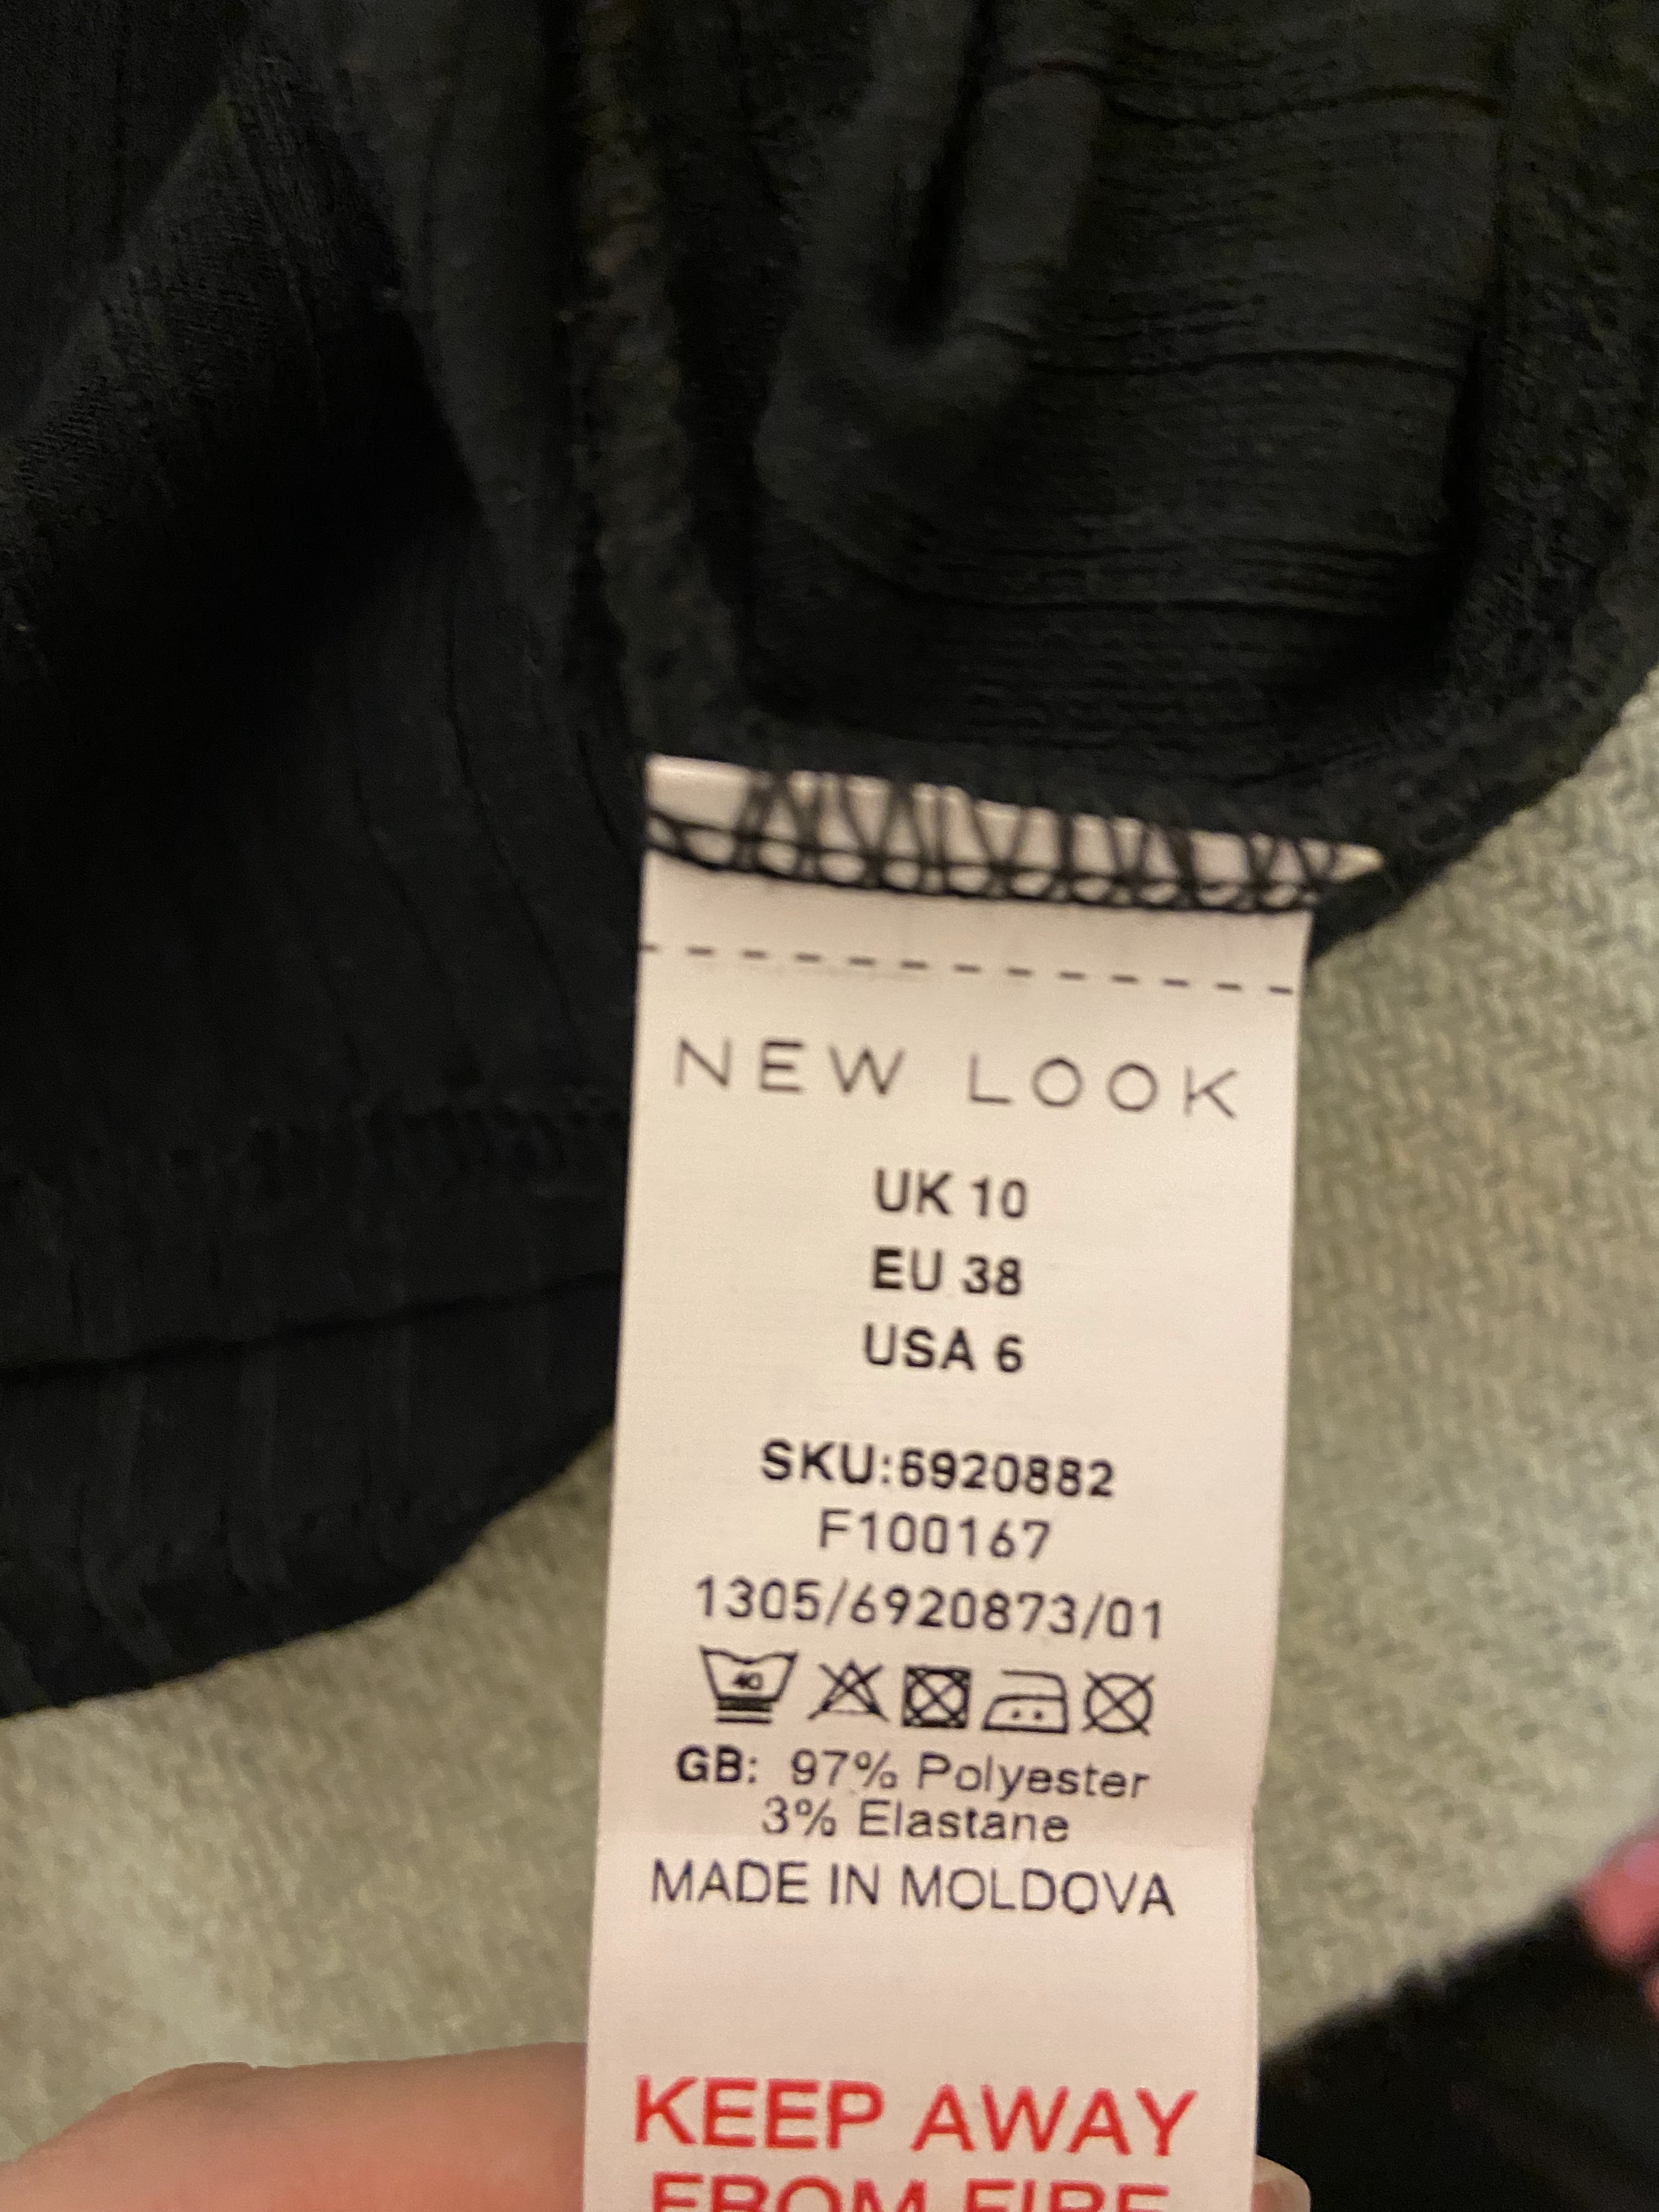do not bleach: (819, 1637, 899, 1733)
do not dry clean: (1082, 1653, 1164, 1759)
do not tumble dry: (899, 1656, 979, 1742)
iron medium temp: (978, 1649, 1093, 1756)
wash at or below 40: (678, 1623, 809, 1740)
